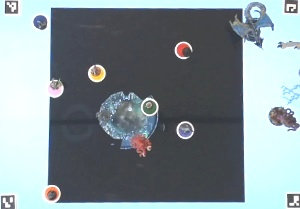blue: (29, 13, 47, 31)
green: (138, 94, 160, 117)
orange: (42, 182, 61, 204)
pink: (44, 76, 68, 100)
red: (172, 41, 192, 60)
violet: (174, 119, 197, 139)
yellow: (86, 63, 106, 85)
